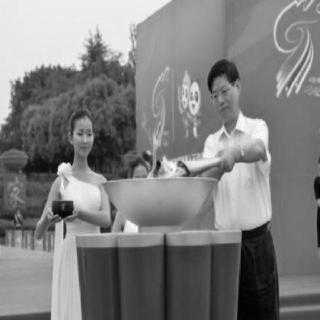Fire: (55, 172, 68, 204)
other: (74, 240, 238, 318)
